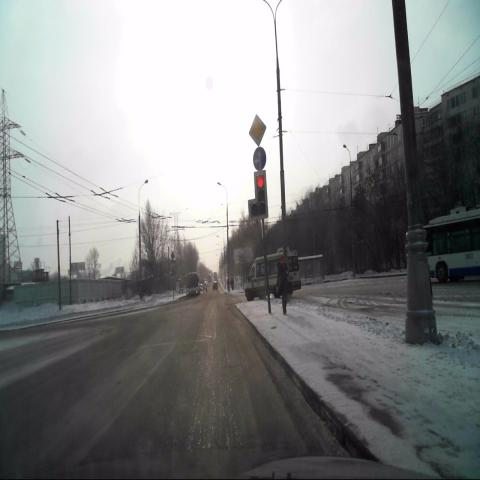2_1: (248, 115, 266, 146)
4_1_5: (253, 146, 266, 170)
